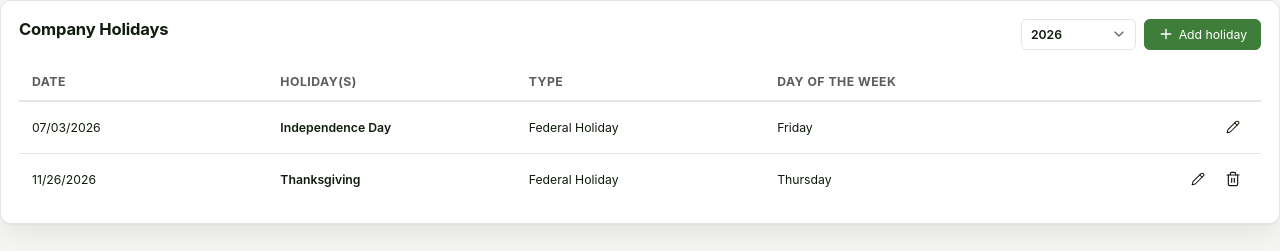
CompanyHolidaysPanel › switches to next year and shows the empty state
The image size is (1280, 251).
expect the table named "Company holidays 2026" is shown: met, box [19,64,1261,205]
Click the dropdown named "Year". click: (1079, 34)
box: [1021,19,1136,50]
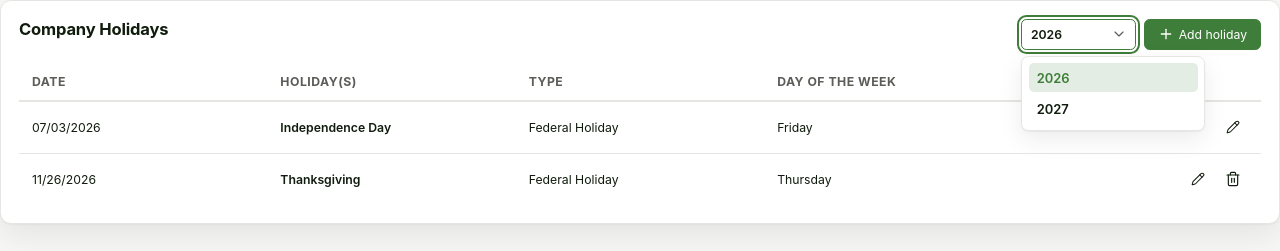
Click the option "2027". click: (1053, 109)
box: [1037,101,1069,117]
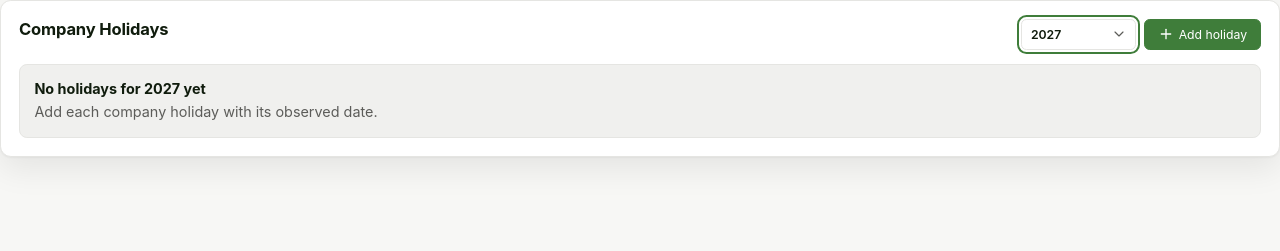
expect the text "No holidays for 2027 yet" is shown: met, box [34,80,206,97]
